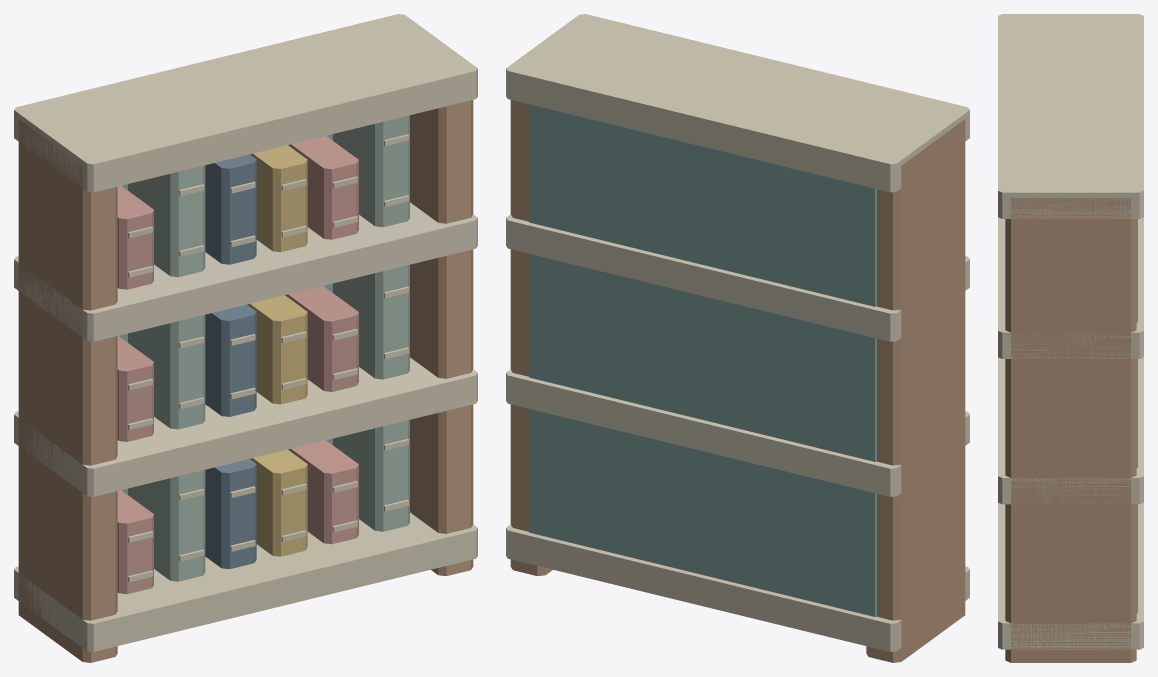
Rendered from bookshelf.glb.
3 renders of one model, left to right at view 1: azimuth 30°, elevation 25°; view 2: azimuth 150°, elevation 25°; view 3: azimuth 270°, elevation 25°, orthographic. The views are drawn at different scales.
Parts seen in each view (by area): view 1: bookshelf; view 2: bookshelf; view 3: bookshelf.
Part boxes in pixels (x1,y1,x2,y2): bookshelf: [14, 14, 477, 662]; bookshelf: [506, 14, 969, 662]; bookshelf: [998, 14, 1143, 662].
Bounding box in the file's own units: 1.45 × 1.78 × 0.5.
